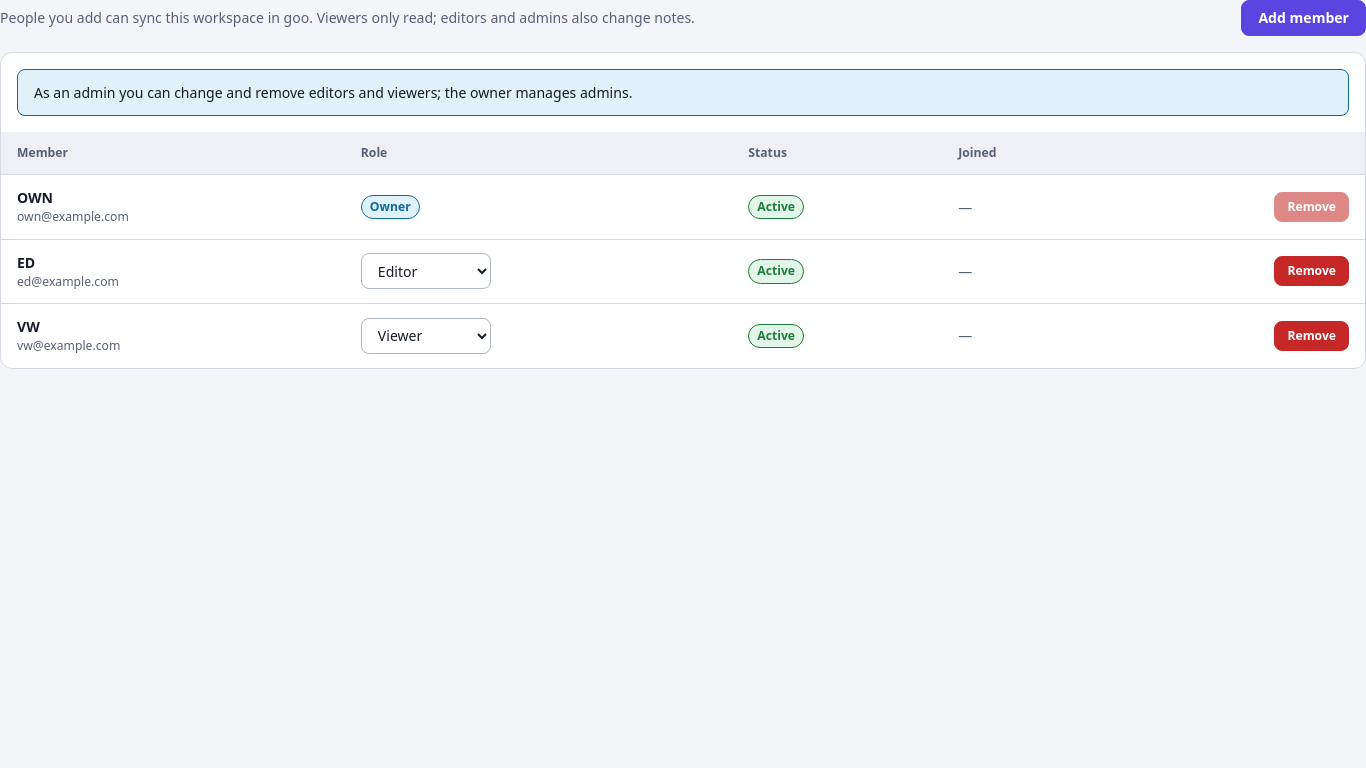
Test: WsMembers adding people › an email without an account lands in "Waiting for an account", which can be removed
Click the button "Add member".
click(1304, 18)  # box [1241, 0, 1365, 36]
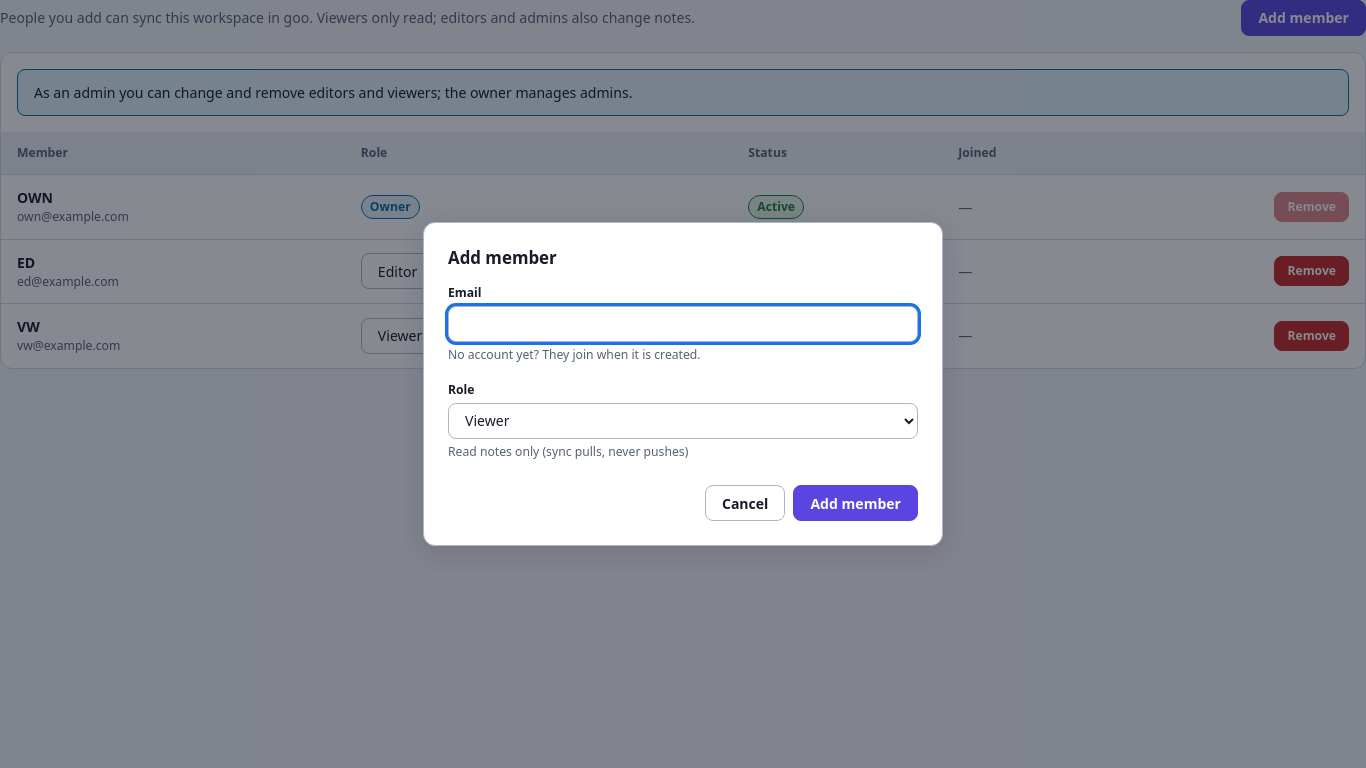
Type "later@example.com" into the field labelled "Email".
click(683, 324); type("later@example.com")  # box [448, 306, 918, 342]
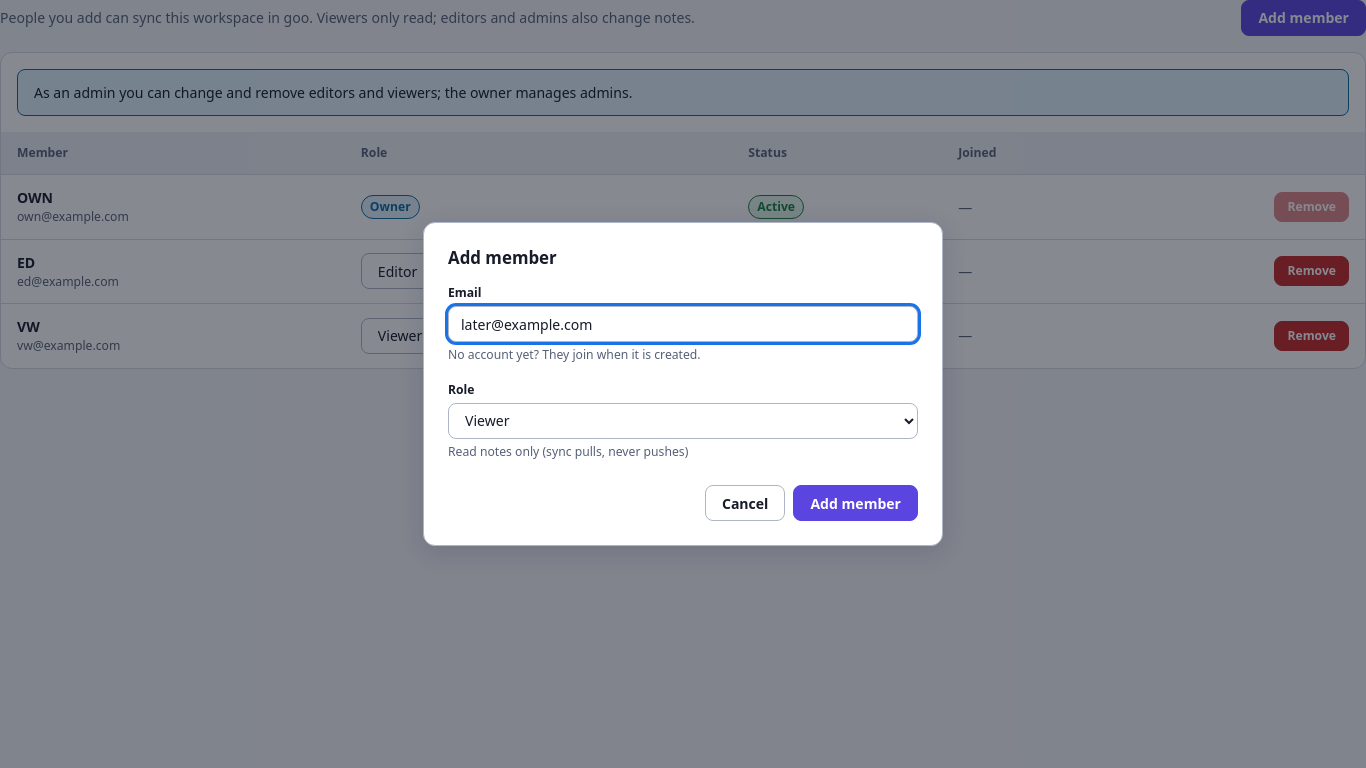
Click the button "Add member".
click(856, 503)  # box [793, 485, 918, 521]
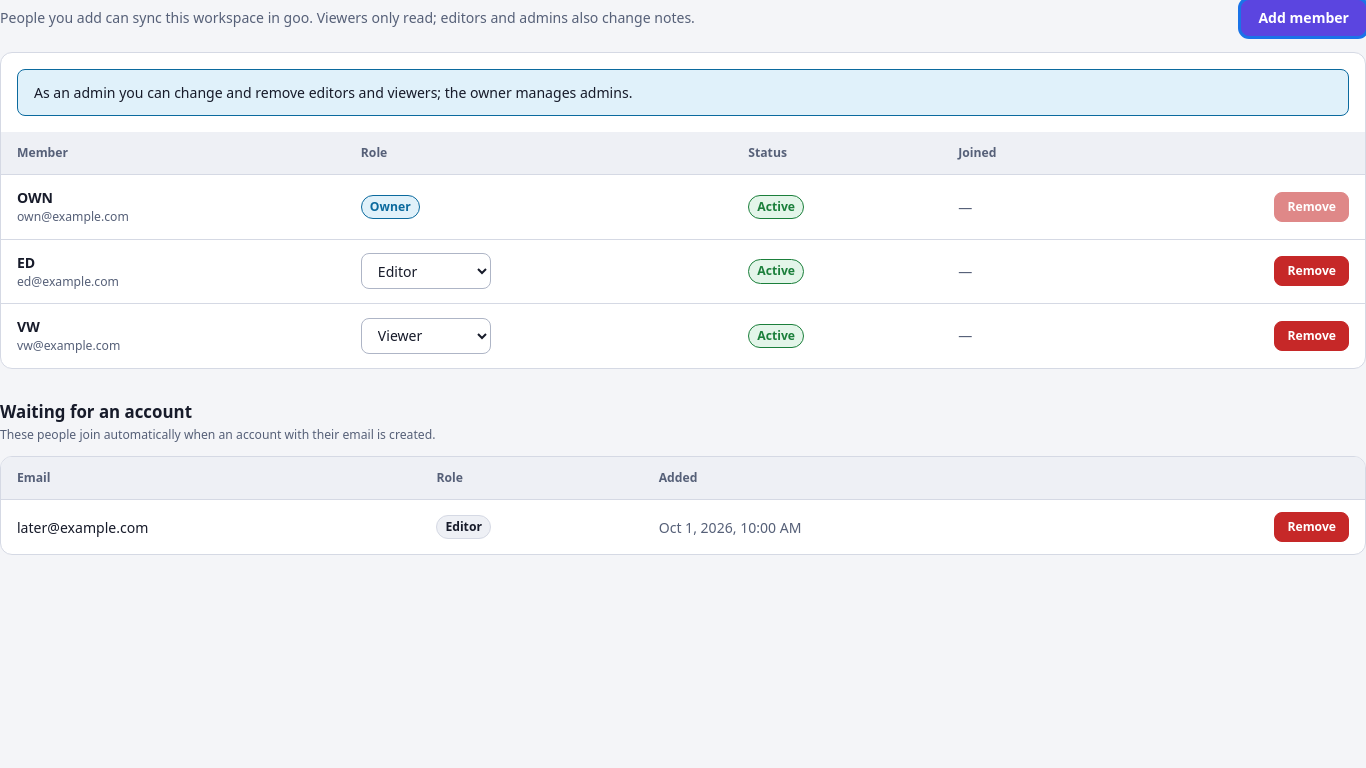
Expected: the text "later@example.com" is shown, [1, 500, 420, 554]
Click the button with aria-label "remove later@example.com".
click(1312, 527)  # box [1274, 512, 1349, 542]
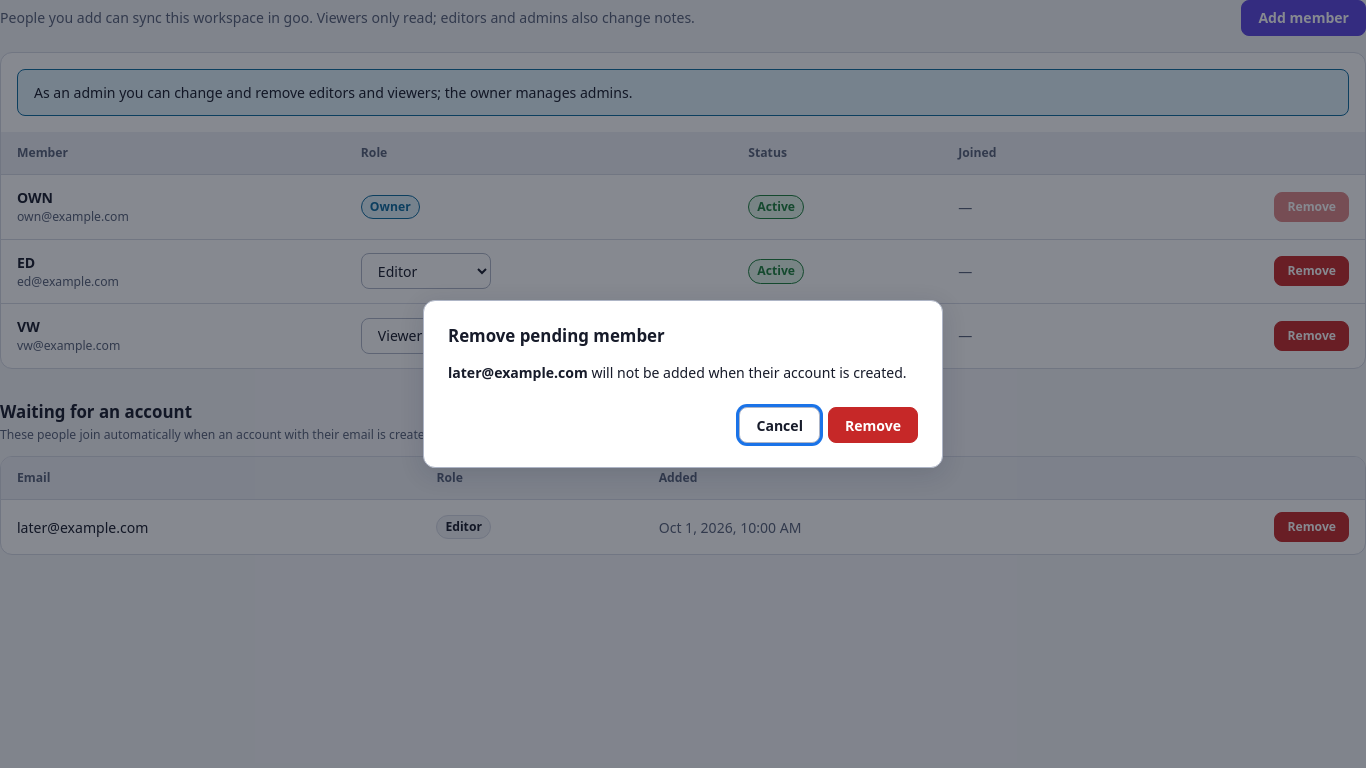
Click the button "Remove".
click(873, 425)  # box [828, 407, 918, 443]
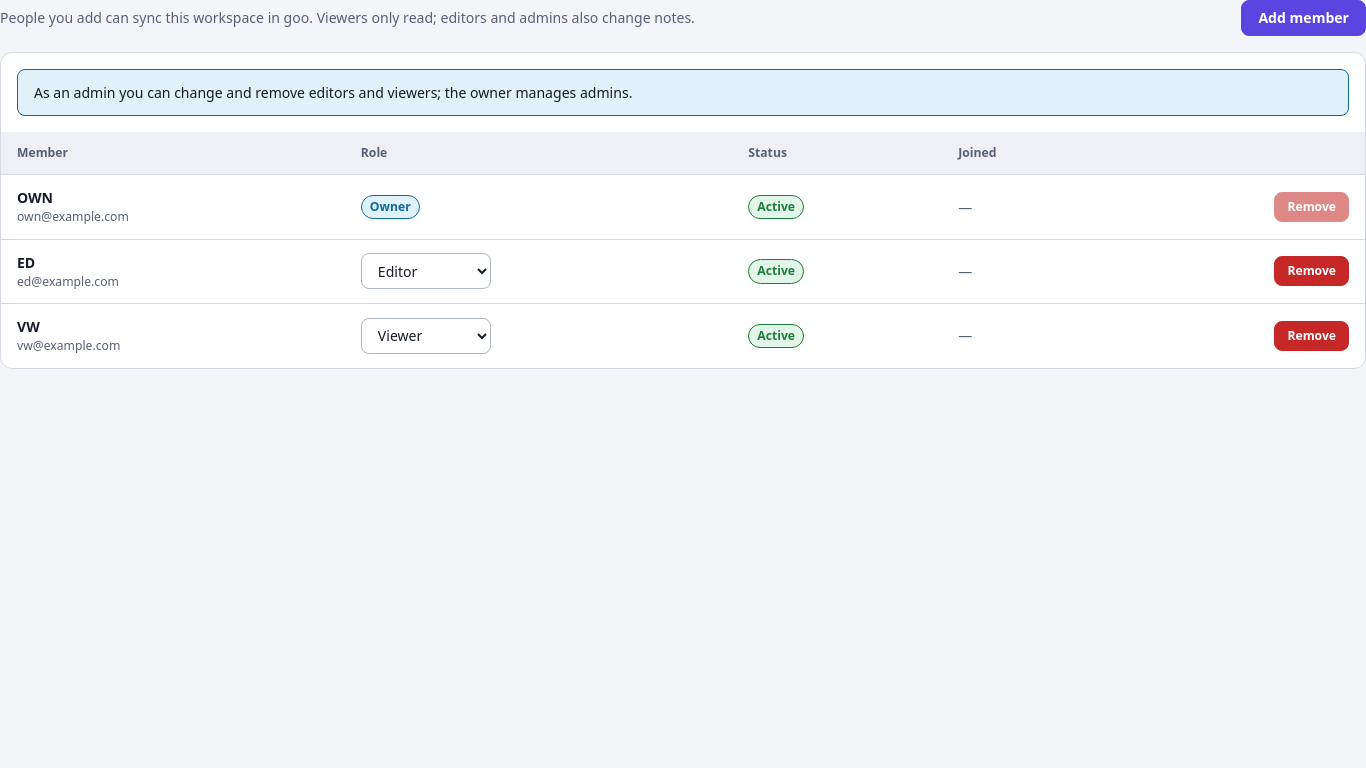
Expected: the heading "Waiting for an account" is gone
